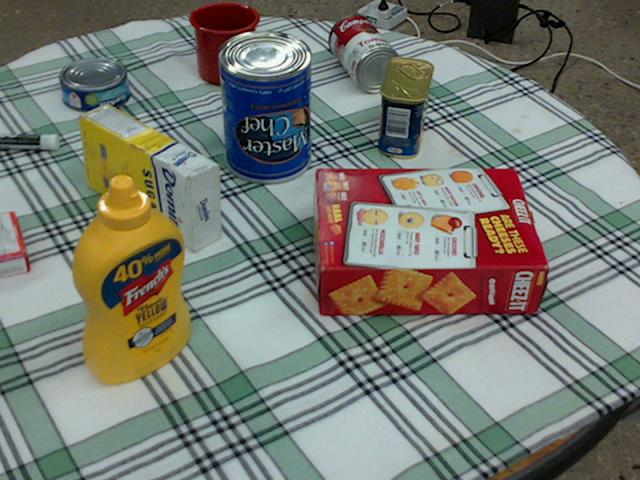cracker_box: (315, 167, 548, 316)
gelatin_box: (0, 211, 30, 277)
large_marker: (0, 133, 58, 149)
master_chef_can: (217, 30, 309, 182)
mug: (190, 2, 260, 84)
mustard_bottle: (71, 174, 189, 381)
potted_meat_can: (377, 57, 431, 158)
sugar_box: (78, 104, 220, 251)
tomato_soup_can: (329, 14, 400, 91)
tuna_fish_can: (60, 57, 129, 111)
